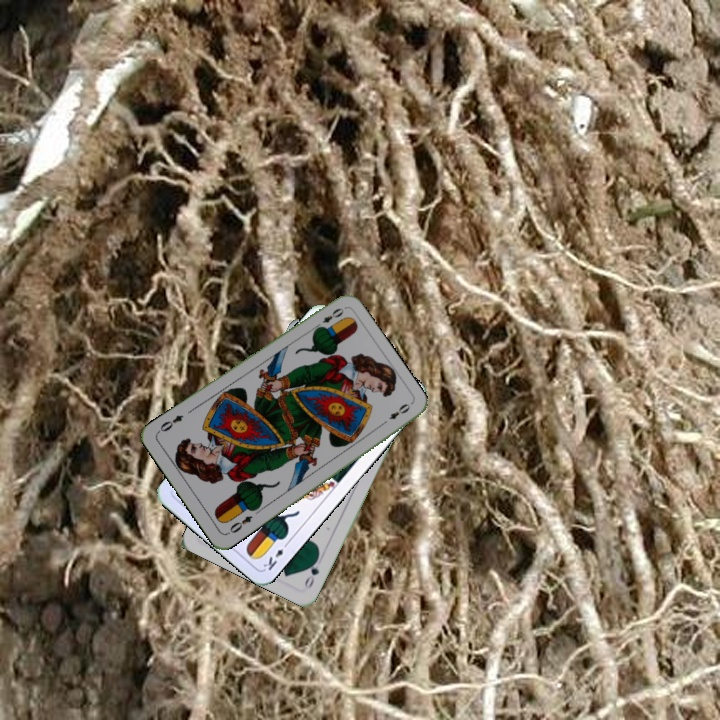EK: (259, 537, 292, 573)
EO: (310, 304, 346, 332), (223, 511, 255, 537)
GO: (300, 552, 322, 591)
